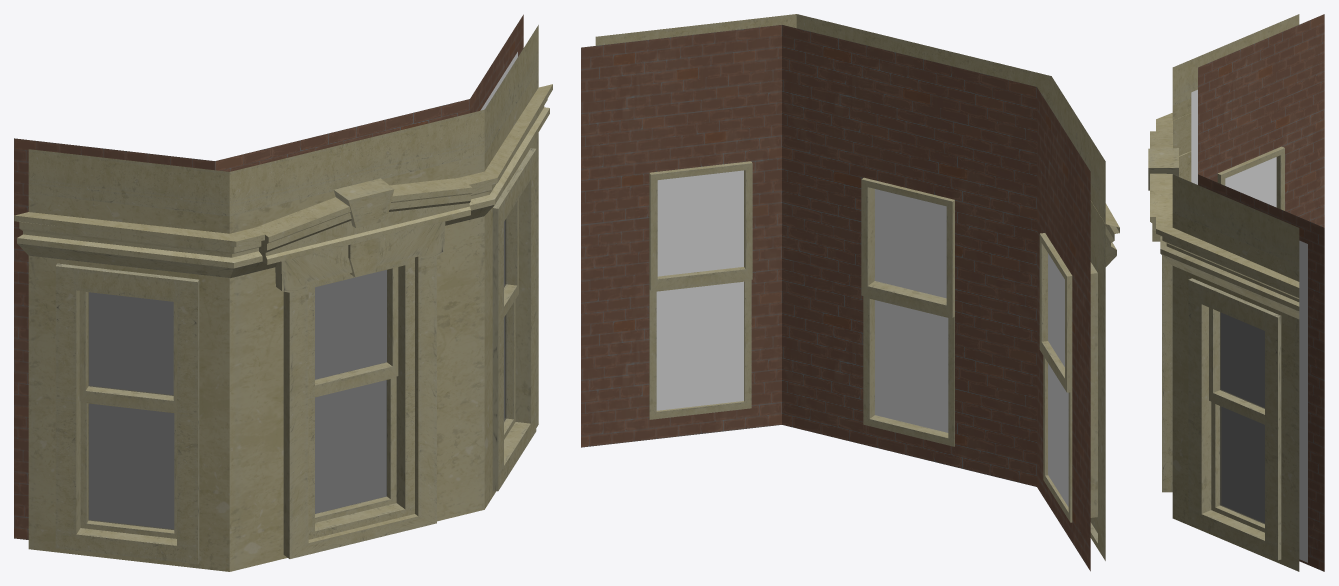
Rendered from Trim_BayWindow.gltf.
3 views of the same model, side by side, from view 1: azimuth 30°, elevation 25°; view 2: azimuth 150°, elevation 25°; view 3: azimuth 270°, elevation 25° (orthographic). The views are drawn at different scales.
Visible parts, largest first — view 1: Trim_BayWindow; view 2: Trim_BayWindow; view 3: Trim_BayWindow.
Part boxes in pixels (left/top/right/bottom): Trim_BayWindow: left=14, top=14, right=552, bottom=571; Trim_BayWindow: left=581, top=14, right=1119, bottom=571; Trim_BayWindow: left=1148, top=14, right=1324, bottom=571.
Bounding box in the file's own units: 4.23 × 3 × 1.39.
Materials: 5 (3 with a texture image).
